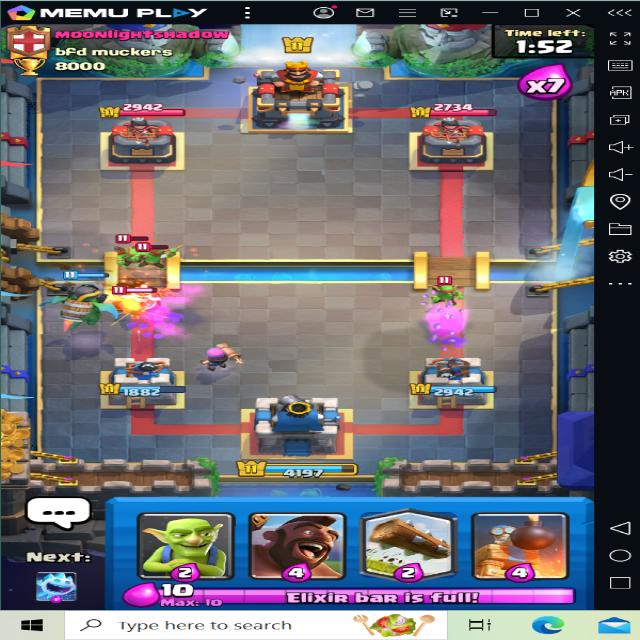monk: (110, 274, 176, 314)
spear-goblin: (425, 276, 465, 304), (134, 244, 173, 269), (116, 245, 156, 268)
